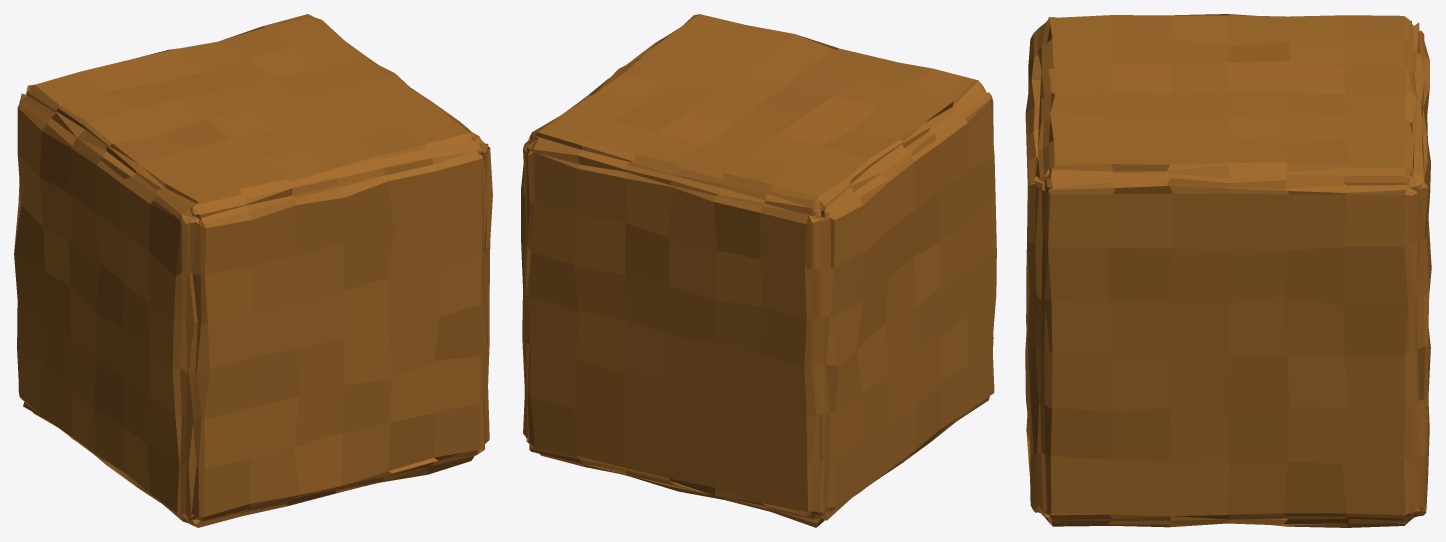
File: rock4.fbx
3 views of the same model, side by side, from view 1: azimuth 30°, elevation 25°; view 2: azimuth 150°, elevation 25°; view 3: azimuth 270°, elevation 25° (orthographic). The views are drawn at different scales.
Parts seen in each view (by area): view 1: Cube.004; view 2: Cube.004; view 3: Cube.004.
Part boxes in pixels (<box>): Cube.004: <box>14,14,492,527</box>; Cube.004: <box>521,14,996,527</box>; Cube.004: <box>1025,14,1431,527</box>.
Size of the model in its own units: 204 by 204 by 204.
